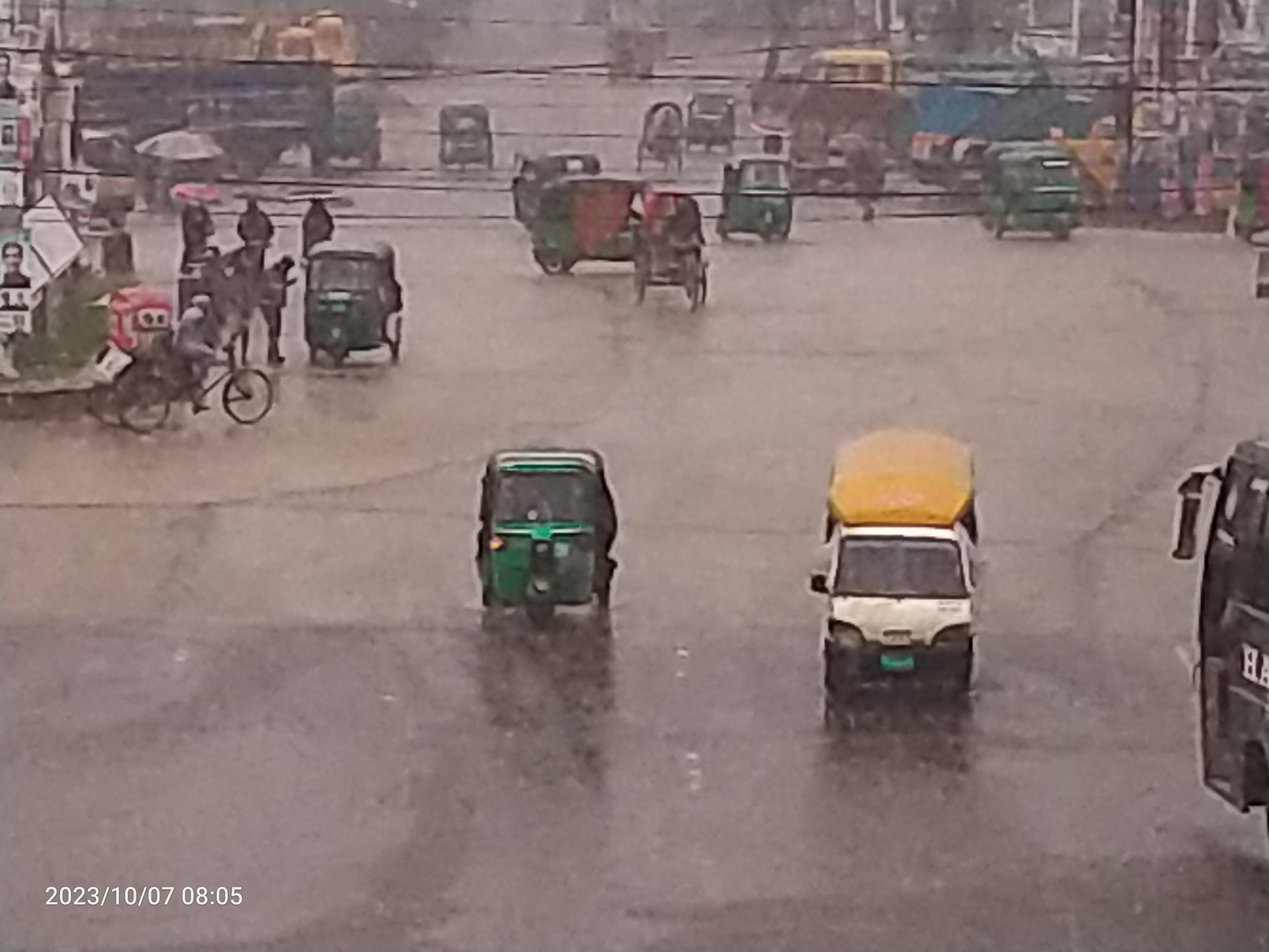Bus: (1148, 409, 1269, 848)
Car: (777, 399, 1018, 725), (53, 267, 288, 442), (615, 170, 727, 317), (624, 86, 710, 187)
